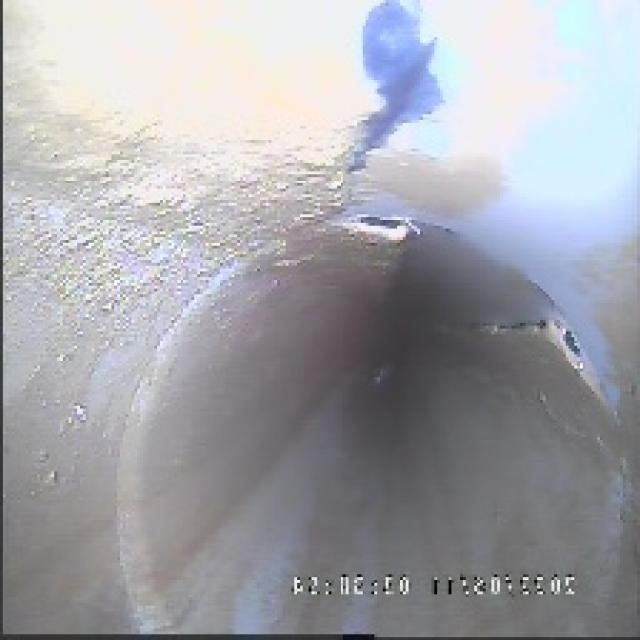pipe_surface_damage: (303, 192, 594, 388)
